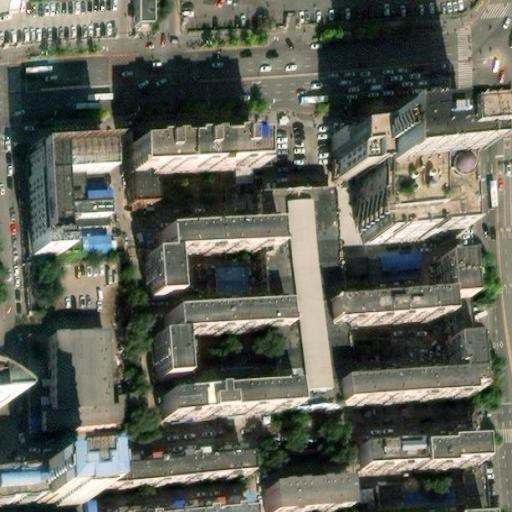building: (270, 177, 355, 405), (363, 336, 502, 403), (32, 140, 113, 240), (51, 327, 126, 423), (372, 129, 478, 182), (107, 443, 246, 478), (135, 139, 261, 174), (151, 384, 278, 418), (354, 435, 477, 467), (355, 298, 472, 331), (150, 206, 264, 238), (155, 289, 270, 319), (115, 490, 253, 512), (365, 484, 468, 511), (267, 478, 342, 512), (46, 452, 98, 495), (376, 246, 423, 273), (133, 238, 160, 283), (140, 318, 166, 361), (470, 263, 494, 309), (0, 360, 22, 407), (34, 368, 52, 423), (351, 154, 374, 191)
